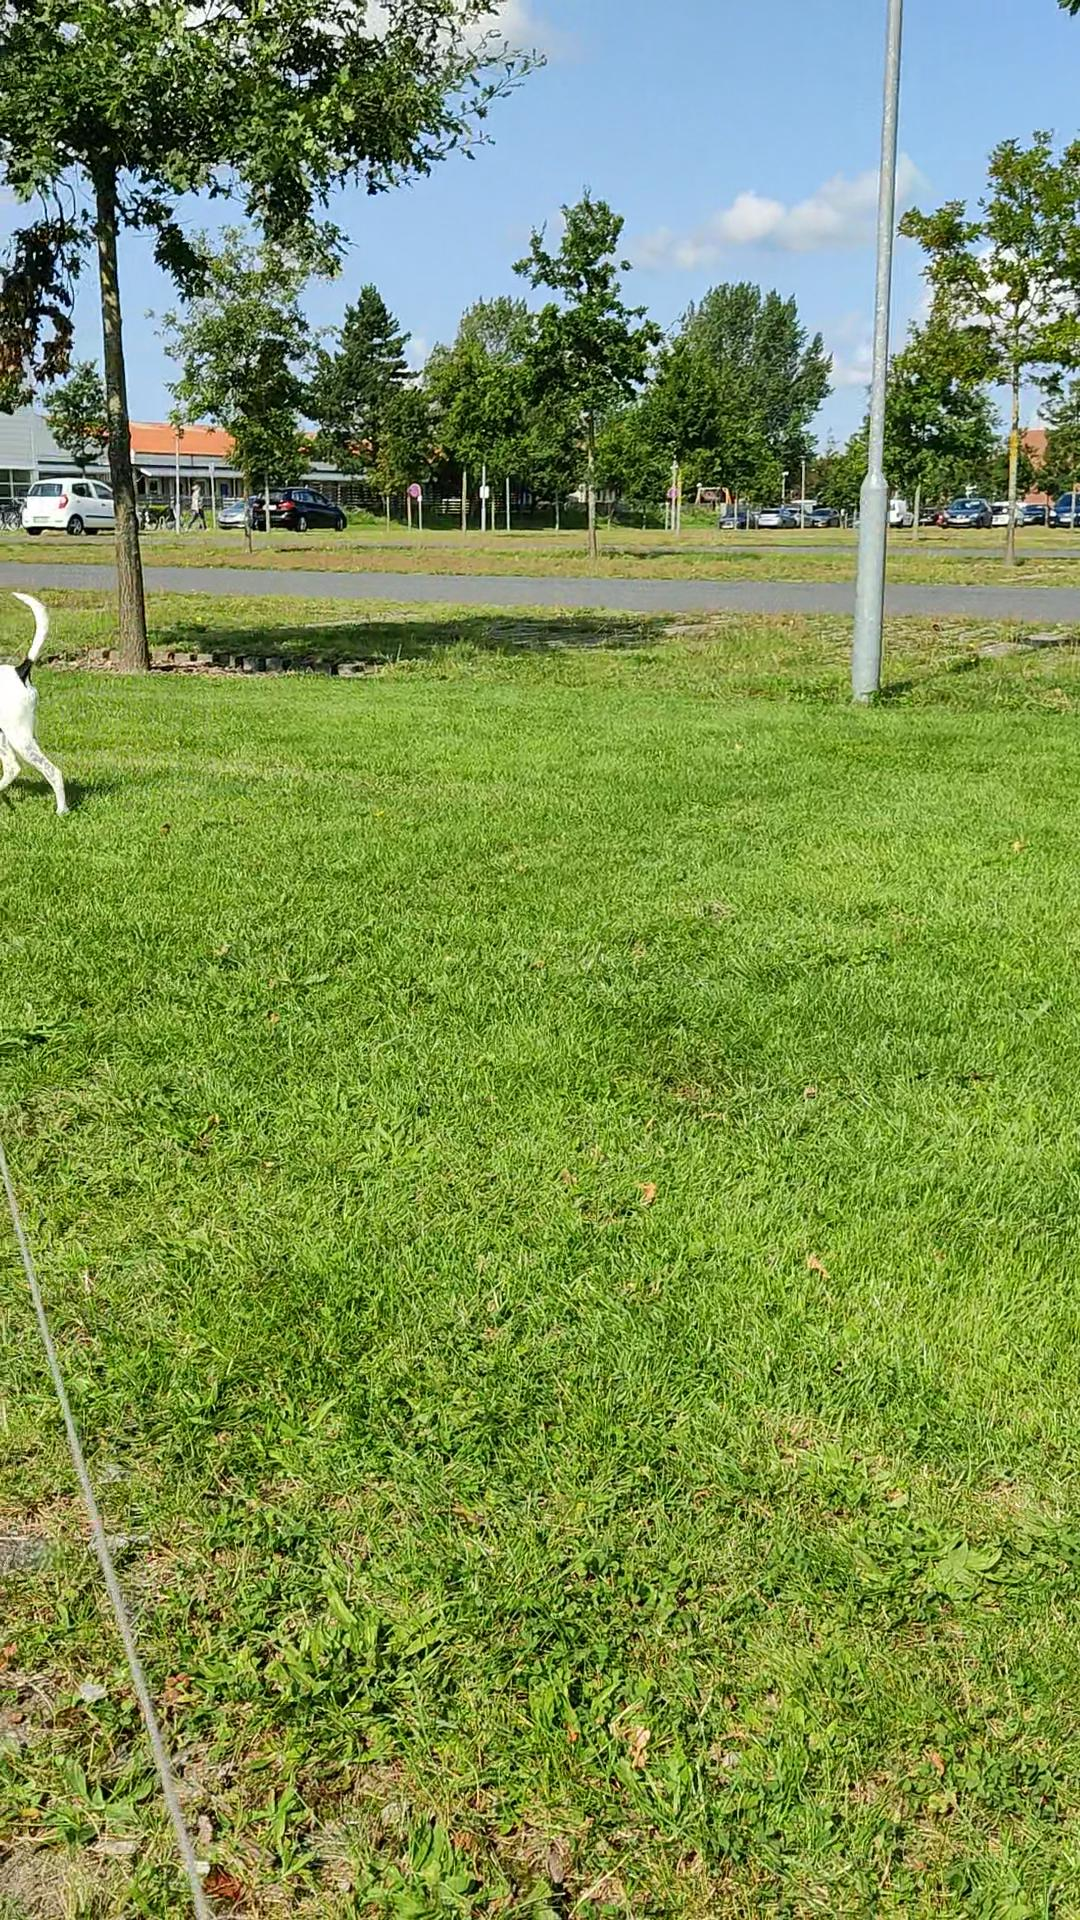Dog: (0, 585, 74, 820)
